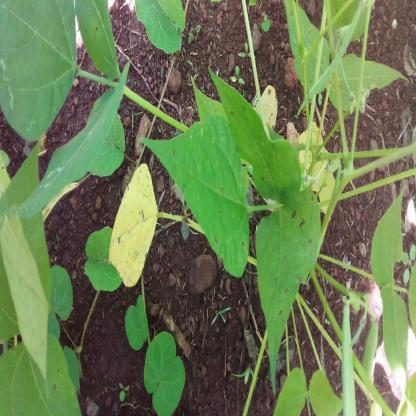Beans_Angular_LeafSpot: (139, 116, 250, 277), (256, 193, 322, 373), (106, 164, 161, 288)
